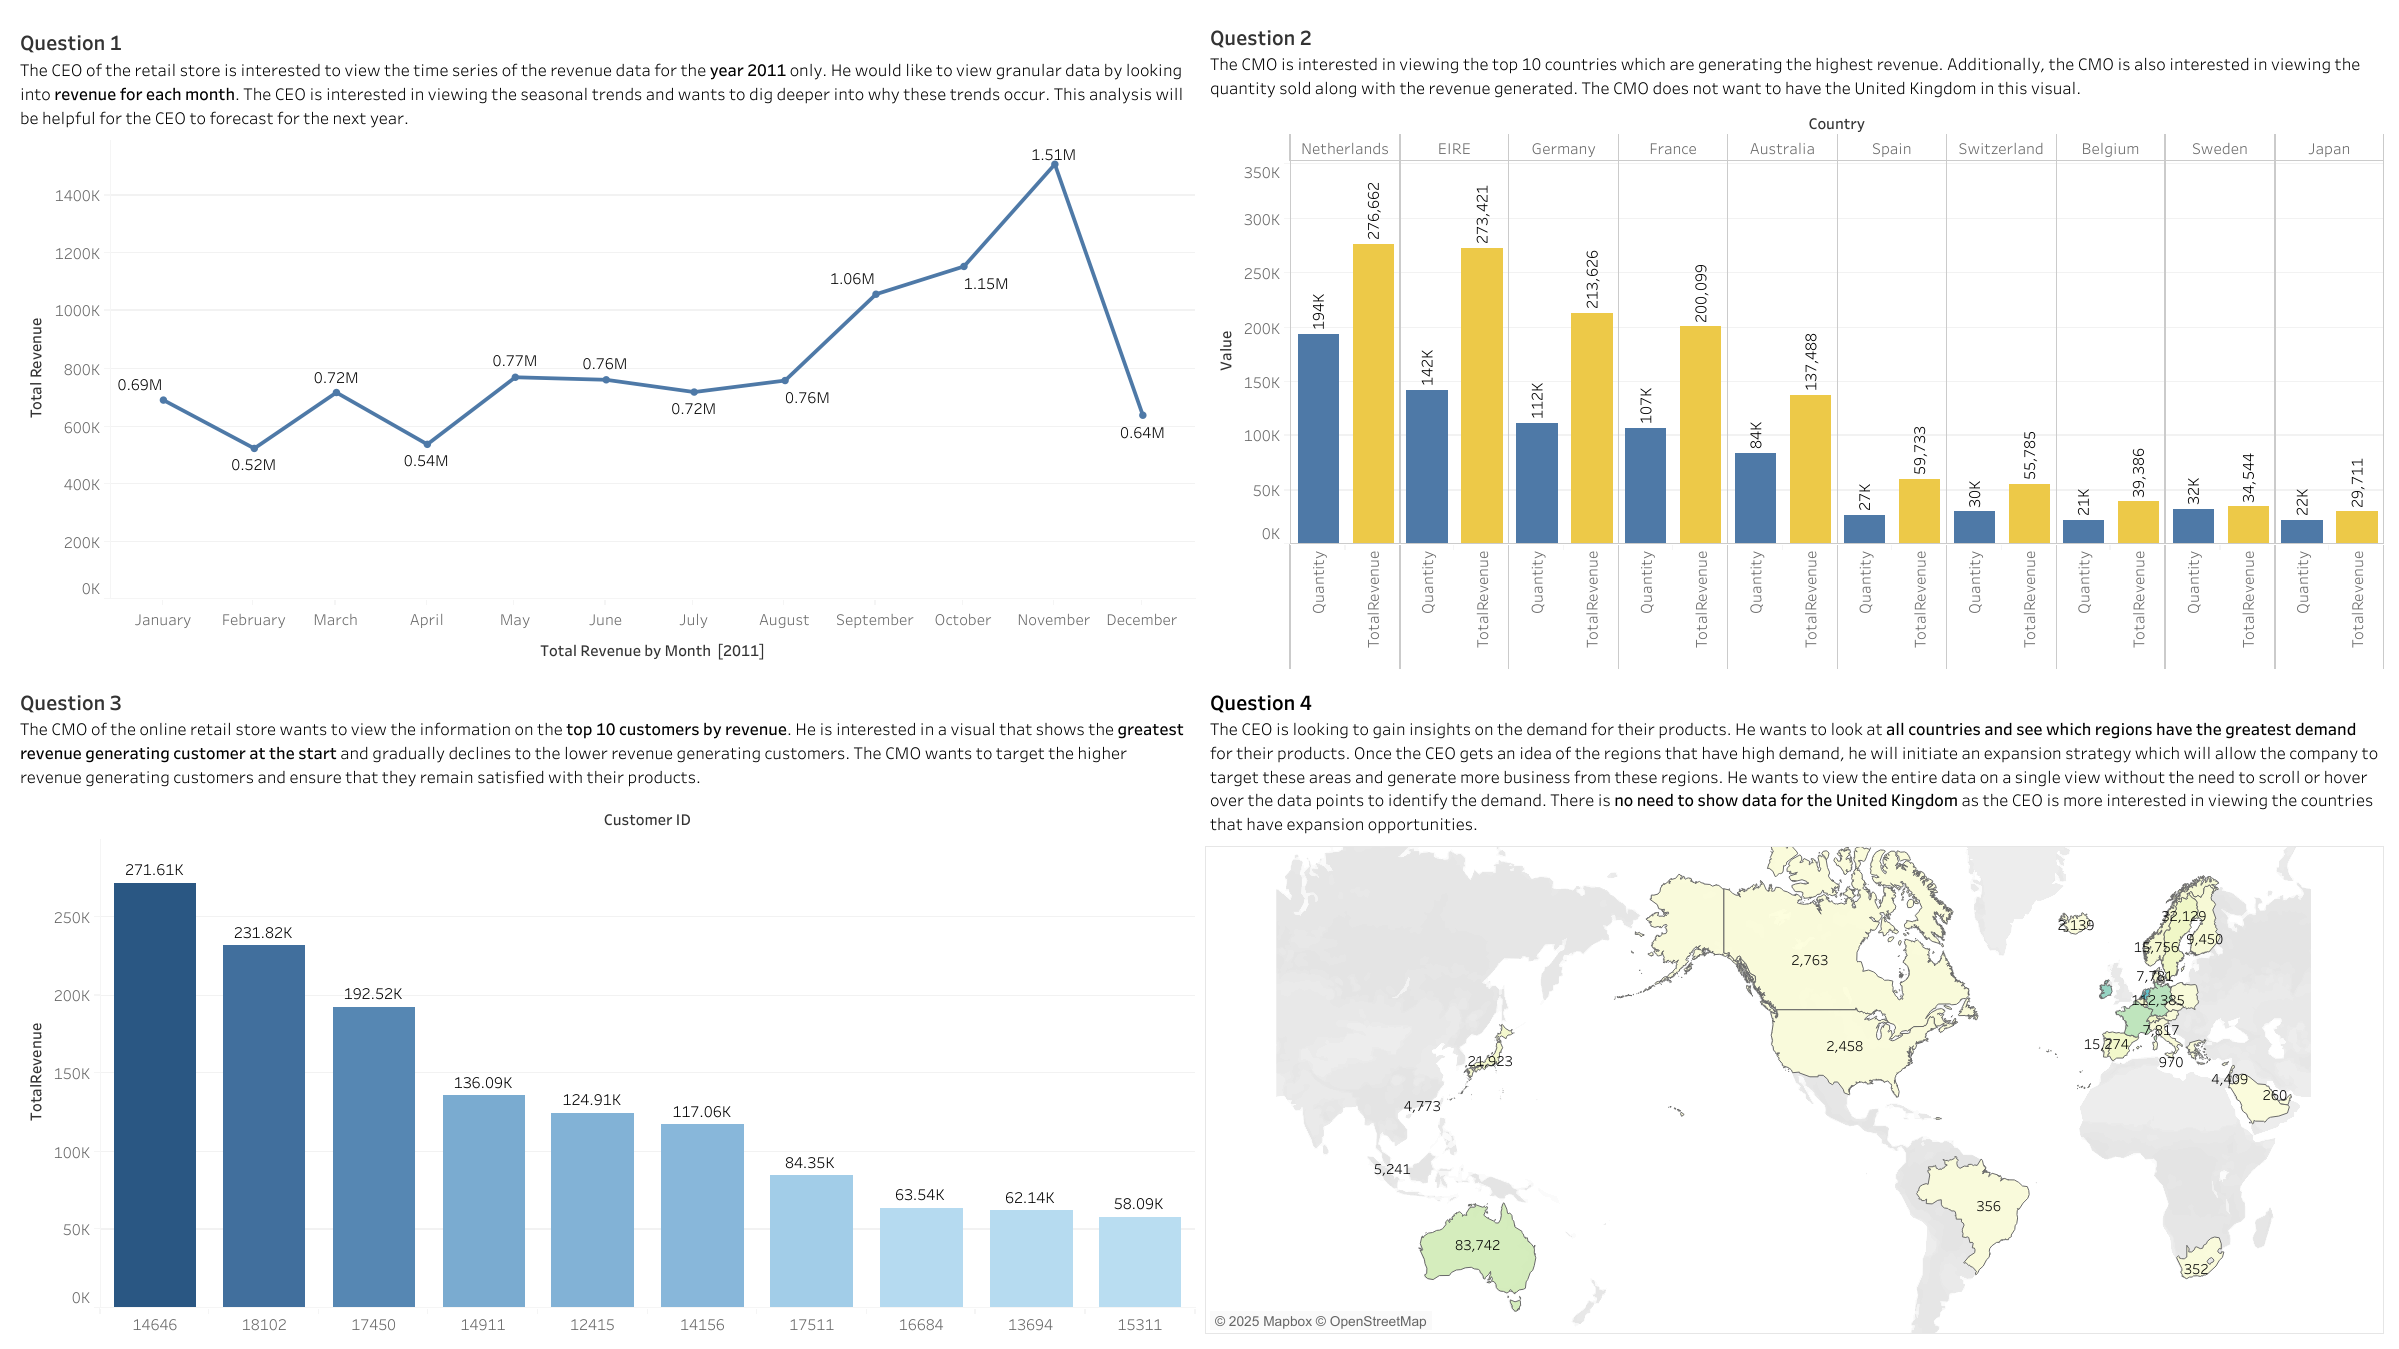

The dashboard page shown, as its layout file describes it:
{"tool":"tableau","page":{"name":"Dashboard 1","canvas":[1920,1080],"ordinal":0},"visuals":[{"type":"worksheet","title":"Question 1","mark":"Automatic","rows":["Calculation_1253689555038212096"],"cols":["InvoiceDate"],"box":[8,8,952,532]},{"type":"worksheet","title":"Question 2","mark":"Bar","cols":["Country"],"box":[960,8,952,532]},{"type":"worksheet","title":"Question 3","mark":"Bar","rows":["Calculation_1253689555038212096"],"cols":["CustomerID"],"box":[8,540,952,532]},{"type":"worksheet","title":"Question 4","mark":"Multipolygon","box":[960,540,952,532]}]}

Visuals, with their boxes in screenshot pixels (x1, y1, x2, y2), scaled from the page's 1920x1080 canvas onto the 2399x1349 screenshot:
"Question 1" worksheet: 10:10:1200:674
"Question 2" worksheet (Bar marks): 1200:10:2389:674
"Question 3" worksheet (Bar marks): 10:674:1200:1339
"Question 4" worksheet (Multipolygon marks): 1200:674:2389:1339
